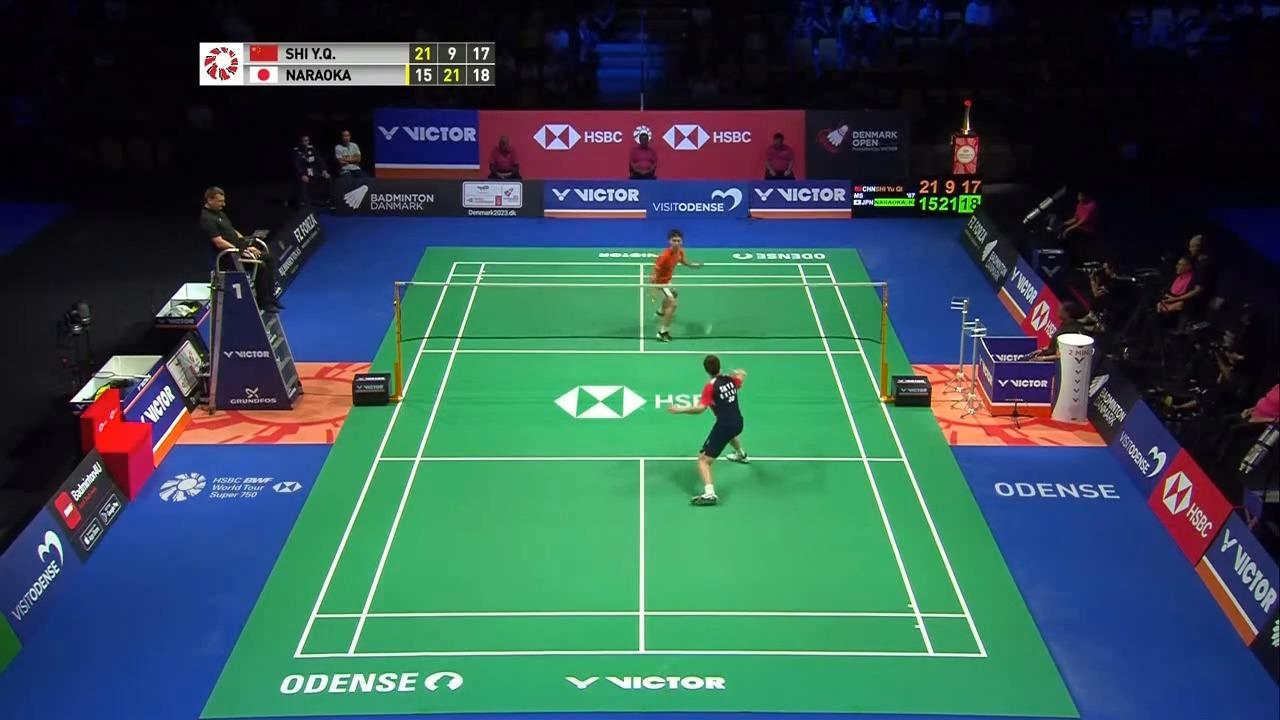shuttle: (705, 324, 713, 333)
